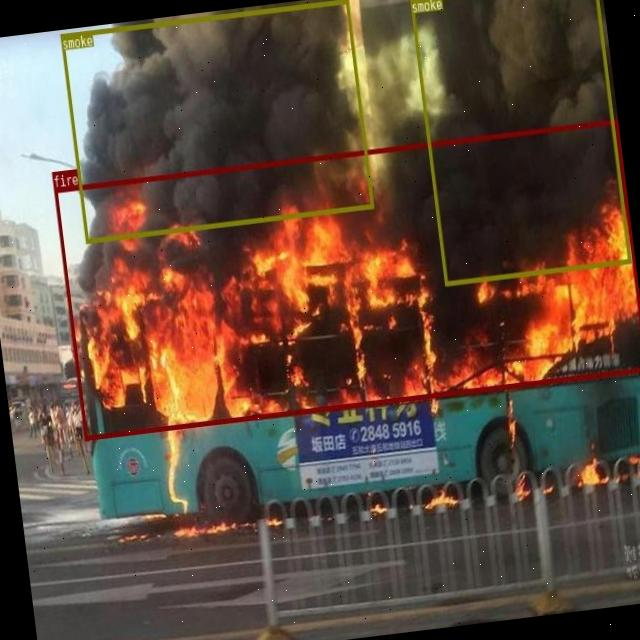fire: (52, 118, 640, 438)
smoke: (60, 0, 374, 243), (409, 0, 630, 284)
